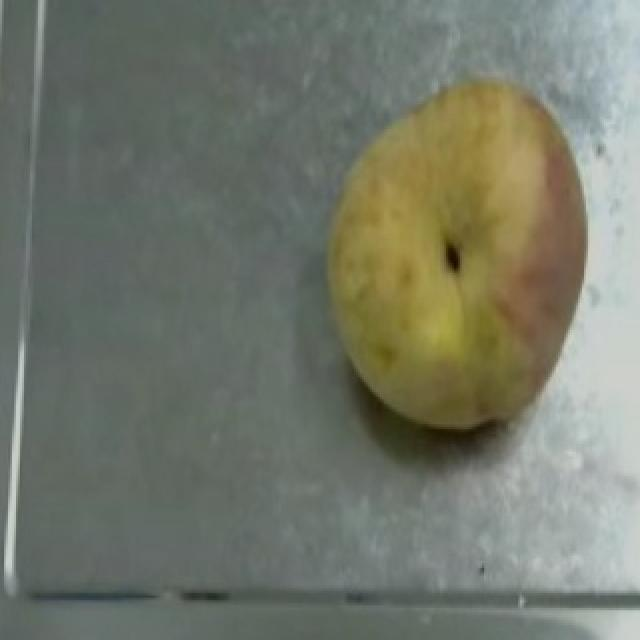Fruit: (296, 119, 612, 449)
